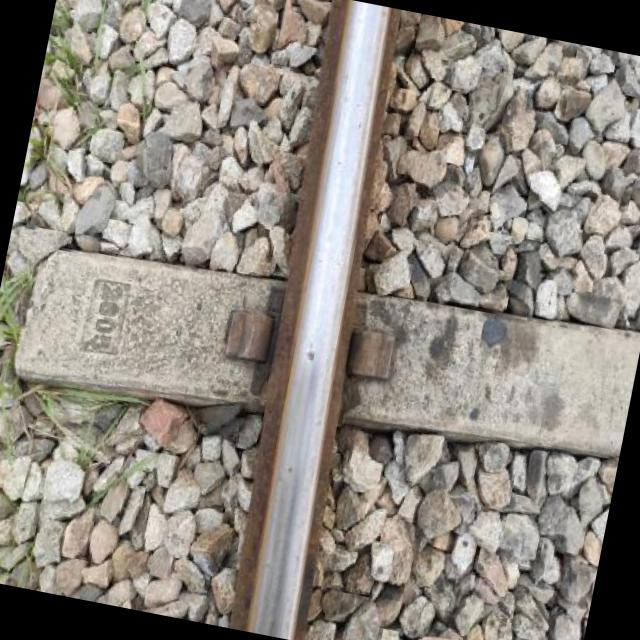non-defective: (121, 0, 536, 640)
